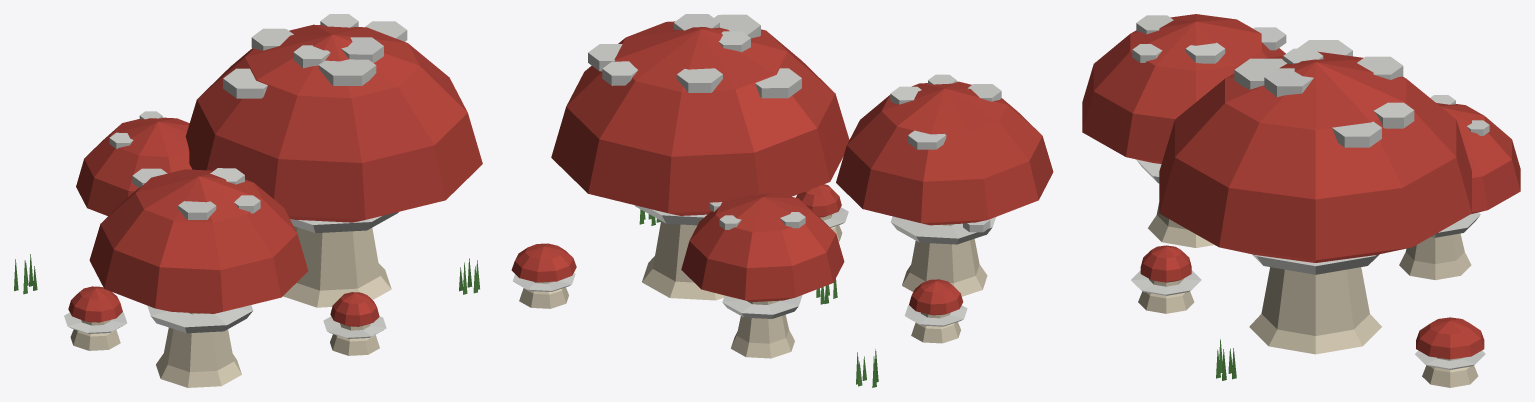
The model's file is Decor_Beanstalk_Toadstools.fbx.
3 views of the same model, side by side, from view 1: azimuth 30°, elevation 25°; view 2: azimuth 150°, elevation 25°; view 3: azimuth 270°, elevation 25° (orthographic). The views are drawn at different scales.
Visible parts, largest first — view 1: Toadstools_Body; view 2: Toadstools_Body; view 3: Toadstools_Body.
Boxes of the visible parts, x1,y1,x2,y2 form: Toadstools_Body: (14, 14, 482, 387); Toadstools_Body: (511, 14, 1053, 387); Toadstools_Body: (1082, 14, 1520, 387).
Size of the model in its own units: 17.5 by 10 by 15.
